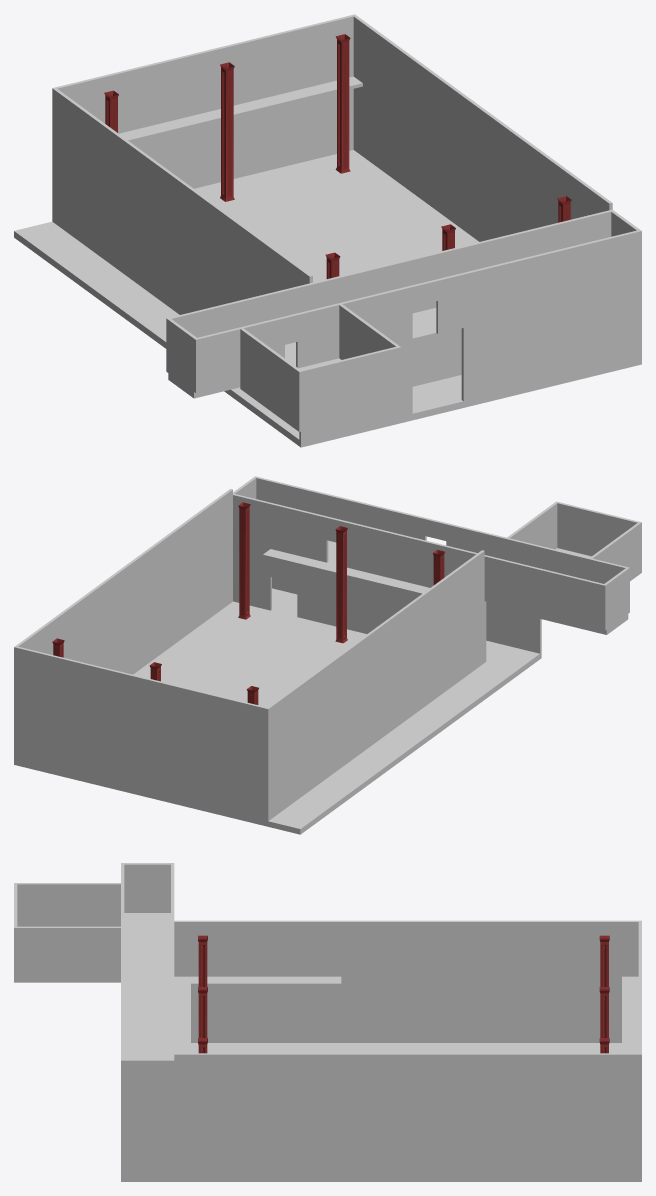
The model's file is testunits.FBX.
3 views of the same model, one above another, from view 1: azimuth 30°, elevation 25°; view 2: azimuth 150°, elevation 25°; view 3: azimuth 270°, elevation 25° (orthographic). The views are drawn at different scales.
Parts seen in each view (by area): view 1: Box024, Box019, Box021, Box023, Box032, Box008, Box005, Box025, Box015, Box007, Box014, Box006 (+10 smaller); view 2: Box021, Box024, Box019, Box023, Box005, Box025, Box029, Box009, Box008, Box015, Box007, Box031 (+10 smaller); view 3: Box019, Box024, Box023, Box002, Box016, Box014, Box033, Box018, Box017, Box027, Box026, Box040 (+8 smaller).
Boxes of the visible parts, x1,y1,x2,y2 form: Box024: [52, 87, 312, 314]; Box019: [352, 14, 612, 241]; Box021: [56, 15, 353, 188]; Box023: [194, 150, 641, 438]; Box032: [461, 284, 641, 401]; Box008: [436, 230, 641, 333]; Box005: [166, 240, 486, 372]; Box025: [14, 221, 339, 447]; Box015: [301, 347, 397, 424]; Box007: [296, 285, 412, 368]; Box014: [240, 328, 302, 425]; Box006: [194, 317, 284, 392]; Box021: [16, 646, 266, 820]; Box024: [265, 550, 484, 821]; Box019: [14, 489, 232, 759]; Box023: [14, 588, 507, 826]; Box005: [337, 519, 606, 630]; Box025: [268, 646, 541, 834]; Box029: [297, 561, 486, 662]; Box009: [233, 493, 328, 562]; Box008: [254, 476, 426, 540]; Box015: [557, 502, 638, 556]; Box007: [446, 523, 543, 568]; Box031: [486, 606, 541, 653]; Box019: [174, 1053, 641, 1175]; Box024: [174, 920, 641, 1042]; Box023: [121, 1043, 641, 1181]; Box002: [124, 913, 170, 1115]; Box016: [14, 926, 120, 976]; Box014: [14, 883, 120, 926]; Box033: [124, 1115, 170, 1175]; Box018: [124, 1059, 170, 1109]; Box017: [124, 863, 170, 912]; Box027: [191, 976, 341, 986]; Box026: [174, 976, 190, 1053]; Box040: [622, 976, 638, 1053].
Bounding box in the file's own units: 70 × 21.01 × 94.
1 material, 1 textured.
